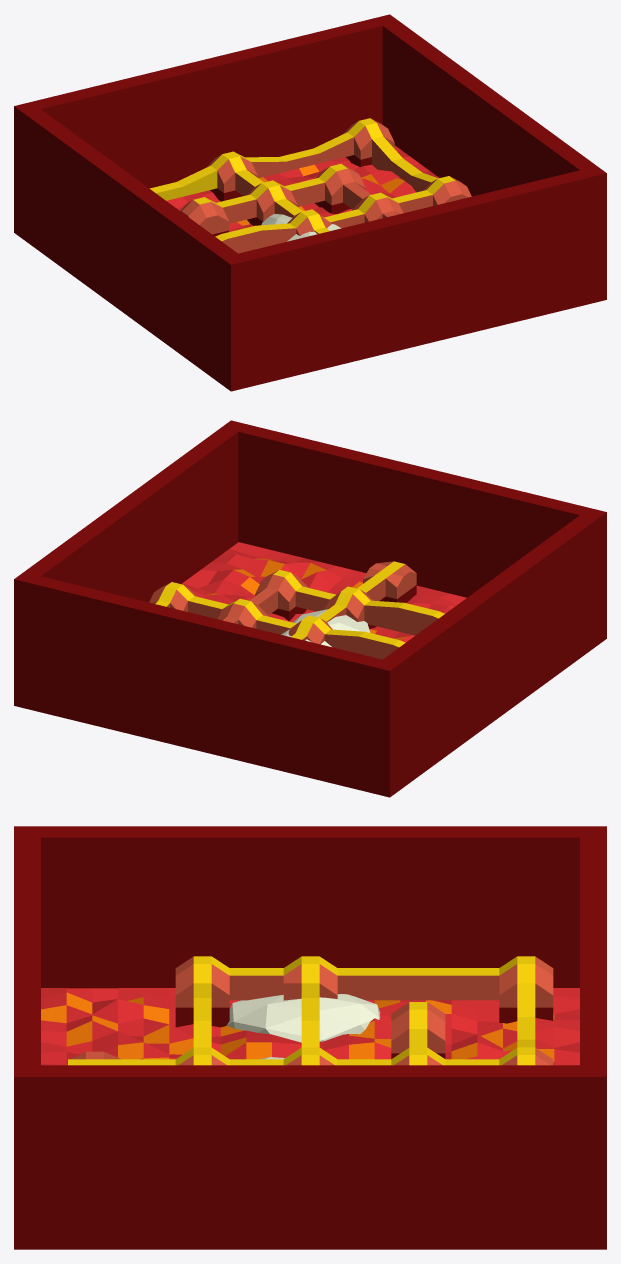
File: Lavaworld2-001.fbx
3 renders of one model, top to bottom at view 1: azimuth 30°, elevation 25°; view 2: azimuth 150°, elevation 25°; view 3: azimuth 270°, elevation 25°, orthographic. The views are drawn at different scales.
Visible parts, largest first — view 1: walls, maze, Lava; view 2: walls, maze, Lava, cloud; view 3: walls, maze, Lava, cloud.001.
Part boxes in pixels (x1=…): walls: x1=14, y1=14, x2=606, y2=391; maze: x1=149, y1=118, x2=471, y2=253; Lava: x1=166, y1=145, x2=439, y2=231; walls: x1=14, y1=420, x2=606, y2=797; maze: x1=149, y1=561, x2=444, y2=659; Lava: x1=181, y1=542, x2=466, y2=642; cloud: x1=281, y1=609, x2=370, y2=646; walls: x1=14, y1=826, x2=606, y2=1249; maze: x1=68, y1=956, x2=553, y2=1065; Lava: x1=41, y1=988, x2=579, y2=1065; cloud.001: x1=227, y1=994, x2=380, y2=1042.
Bounding box in the file's own units: 22 × 8.41 × 22.
